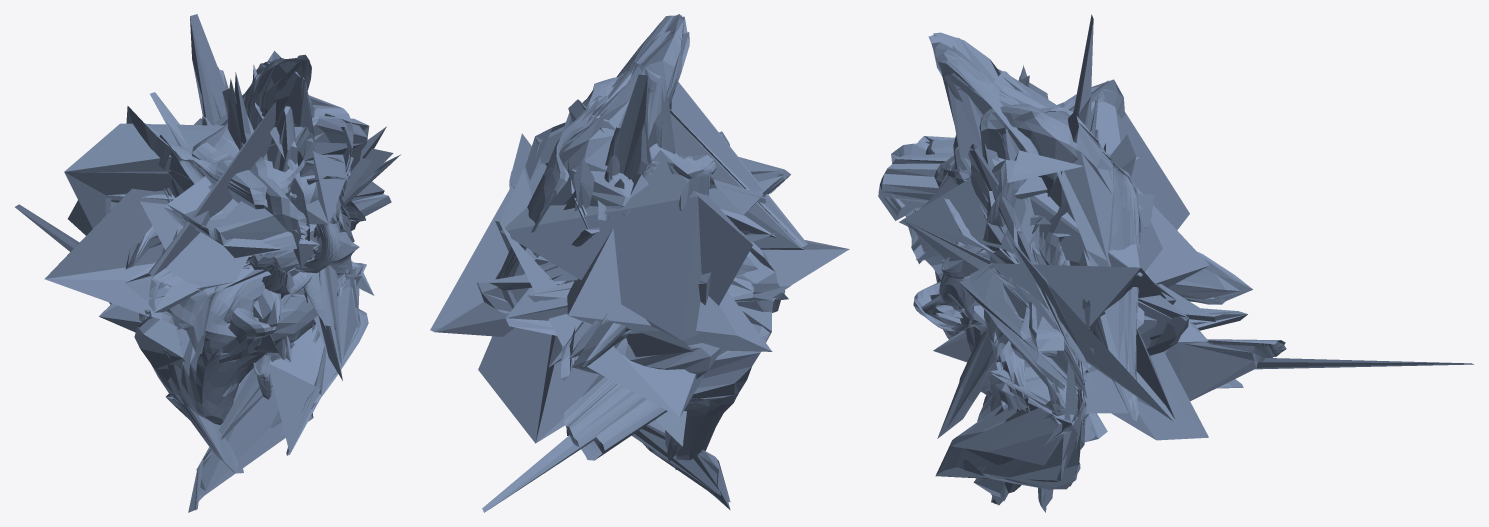
The model's file is bigMama.dae.
3 views of the same model, side by side, from view 1: azimuth 30°, elevation 25°; view 2: azimuth 150°, elevation 25°; view 3: azimuth 270°, elevation 25° (orthographic). The views are drawn at different scales.
Parts seen in each view (by area): view 1: Platonic, Platonic.1, Platonic.3, Platonic.2; view 2: Platonic, Platonic.1, Platonic.3; view 3: Platonic, Platonic.1, Platonic.2, Platonic.3.
Part boxes in pixels (x1,y1,x2,y2): Platonic: (44,54,400,512); Platonic.1: (15,14,391,380); Platonic.3: (125,82,359,473); Platonic.2: (161,116,343,399); Platonic: (430,14,849,510); Platonic.1: (477,74,790,512); Platonic.3: (505,115,788,469); Platonic: (899,32,1247,504); Platonic.1: (878,14,1473,512); Platonic.2: (913,215,1043,421); Platonic.3: (935,271,1215,505).
Bounding box in the file's own units: 233 × 321 × 336.
